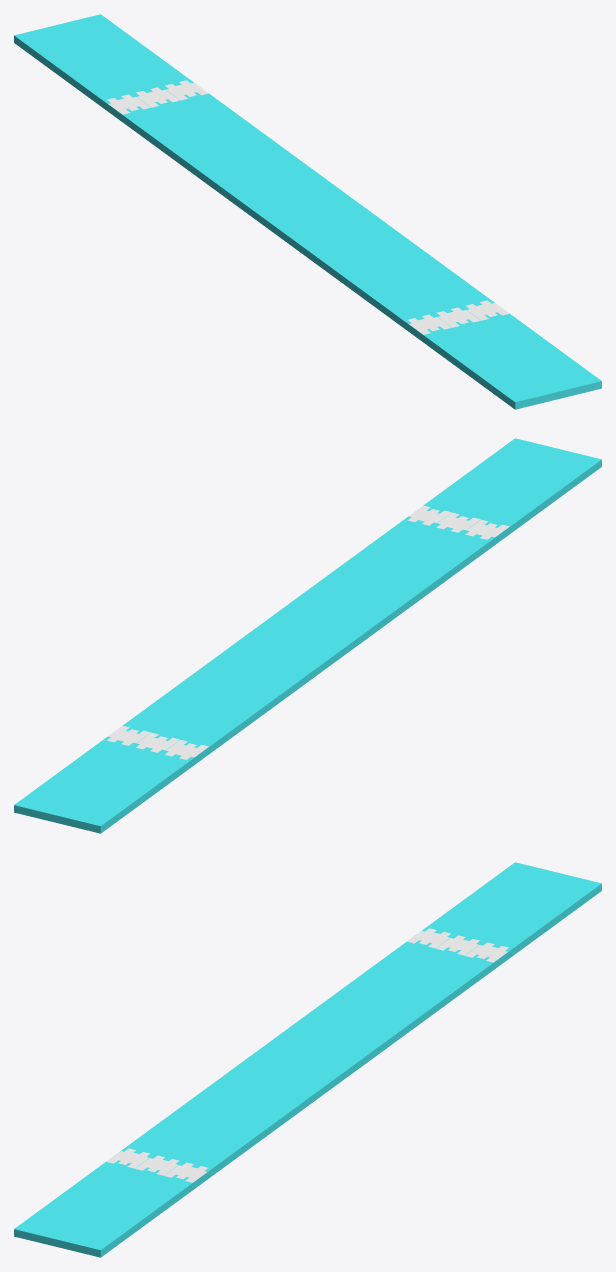
Rendered from SM_water3.fbx.
3 renders of one model, top to bottom at view 1: azimuth 30°, elevation 25°; view 2: azimuth 150°, elevation 25°; view 3: azimuth 330°, elevation 25°, orthographic.
Parts seen in each view (by area): view 1: Water3; view 2: Water3; view 3: Water3.
Boxes of the visible parts, left/top/right/bottom form: Water3: left=14, top=14, right=601, bottom=409; Water3: left=14, top=438, right=601, bottom=833; Water3: left=14, top=862, right=601, bottom=1257.
Bounding box in the file's own units: 300 × 25 × 3000.
